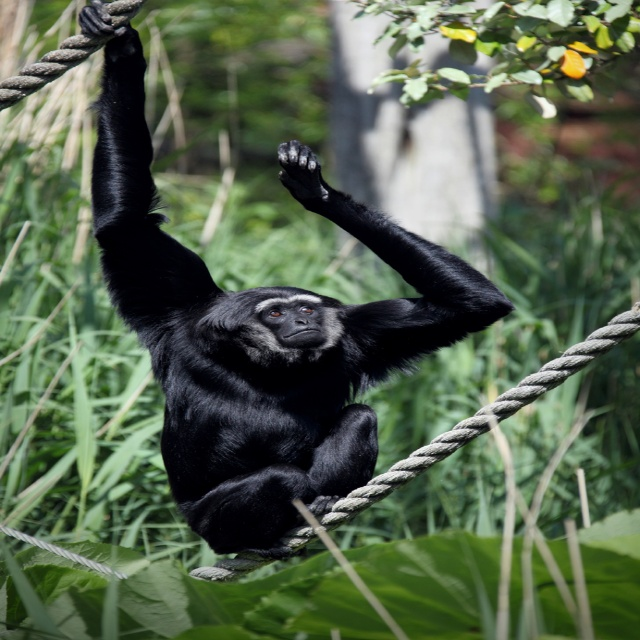Monkey: (78, 0, 517, 561)
